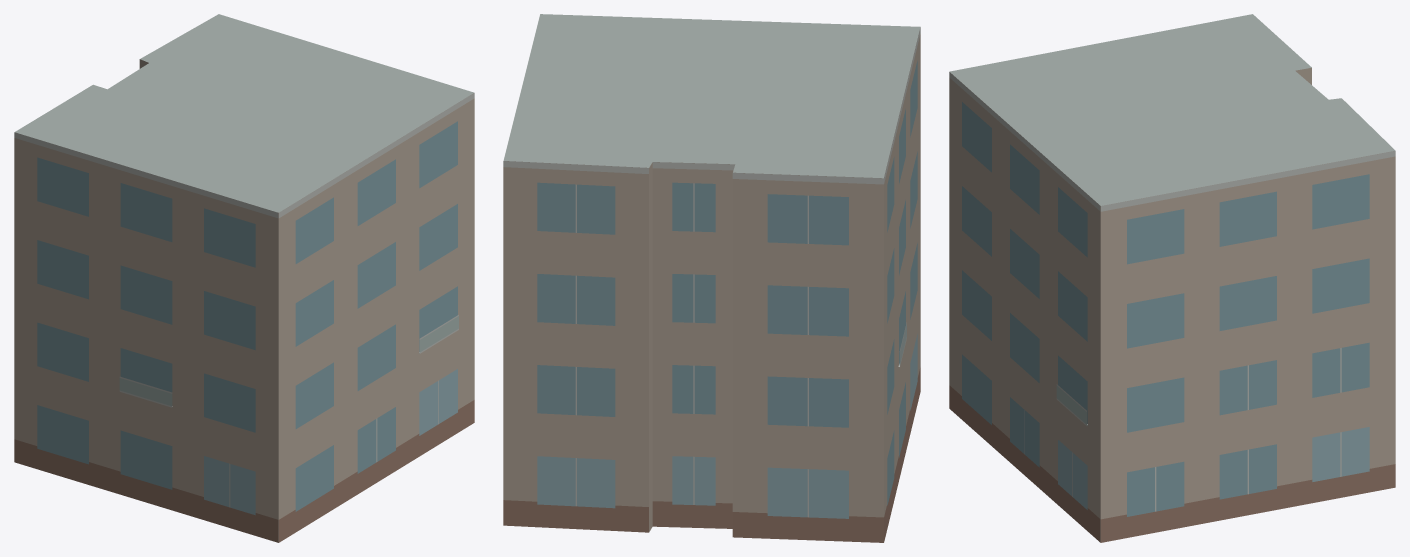
Rendered from survey-upis-32698160.glb.
The picture shows the model from 3 angles, left to right: view 1: azimuth 30°, elevation 25°; view 2: azimuth 150°, elevation 25°; view 3: azimuth 270°, elevation 25°; orthographic projection. The views are drawn at different scales.
Visible parts, largest first — view 1: survey-upis-32698160.tmp; view 2: survey-upis-32698160.tmp; view 3: survey-upis-32698160.tmp.
Part boxes in pixels (<box>): survey-upis-32698160.tmp: <box>14,14,474,542</box>; survey-upis-32698160.tmp: <box>503,14,920,542</box>; survey-upis-32698160.tmp: <box>949,14,1395,542</box>.
Size of the model in its own units: 17.37 by 14.2 by 17.06.
